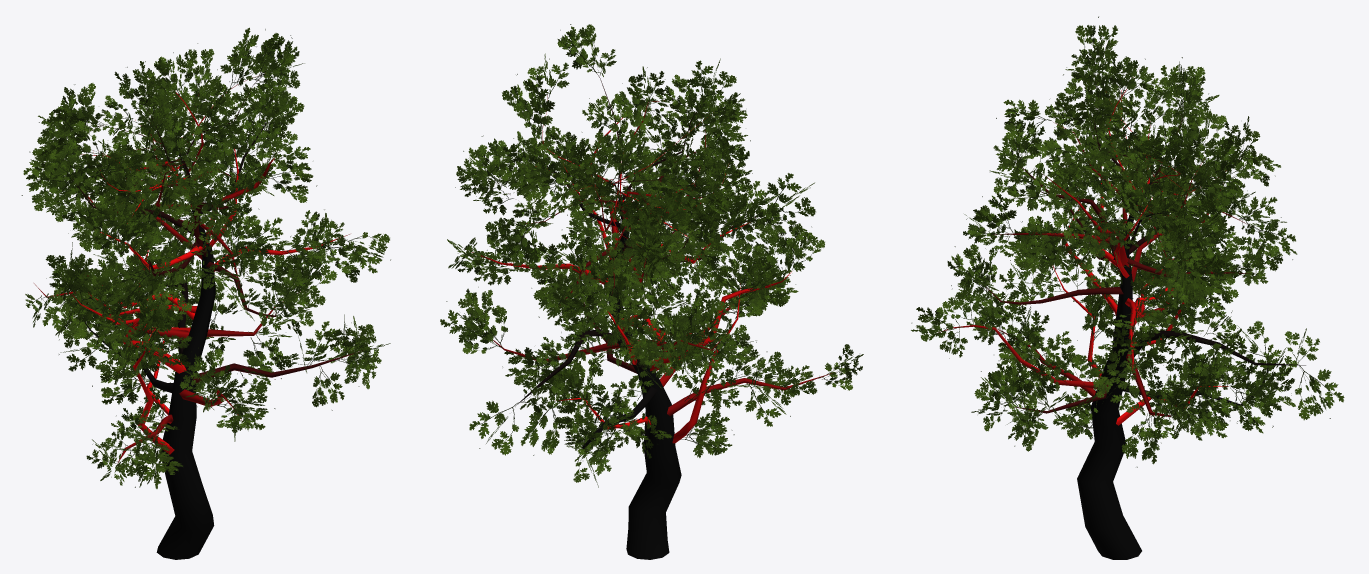
File: oak5 lod0.FBX
3 views of the same model, side by side, from view 1: azimuth 30°, elevation 25°; view 2: azimuth 150°, elevation 25°; view 3: azimuth 270°, elevation 25° (orthographic). The views are drawn at different scales.
Visible parts, largest first — view 1: oak 5; view 2: oak 5; view 3: oak 5.
Boxes of the visible parts, x1,y1,x2,y2 form: oak 5: (21, 27, 390, 559); oak 5: (440, 24, 863, 559); oak 5: (911, 16, 1344, 559).
Bounding box in the file's own units: 104113 × 135336 × 108243.
